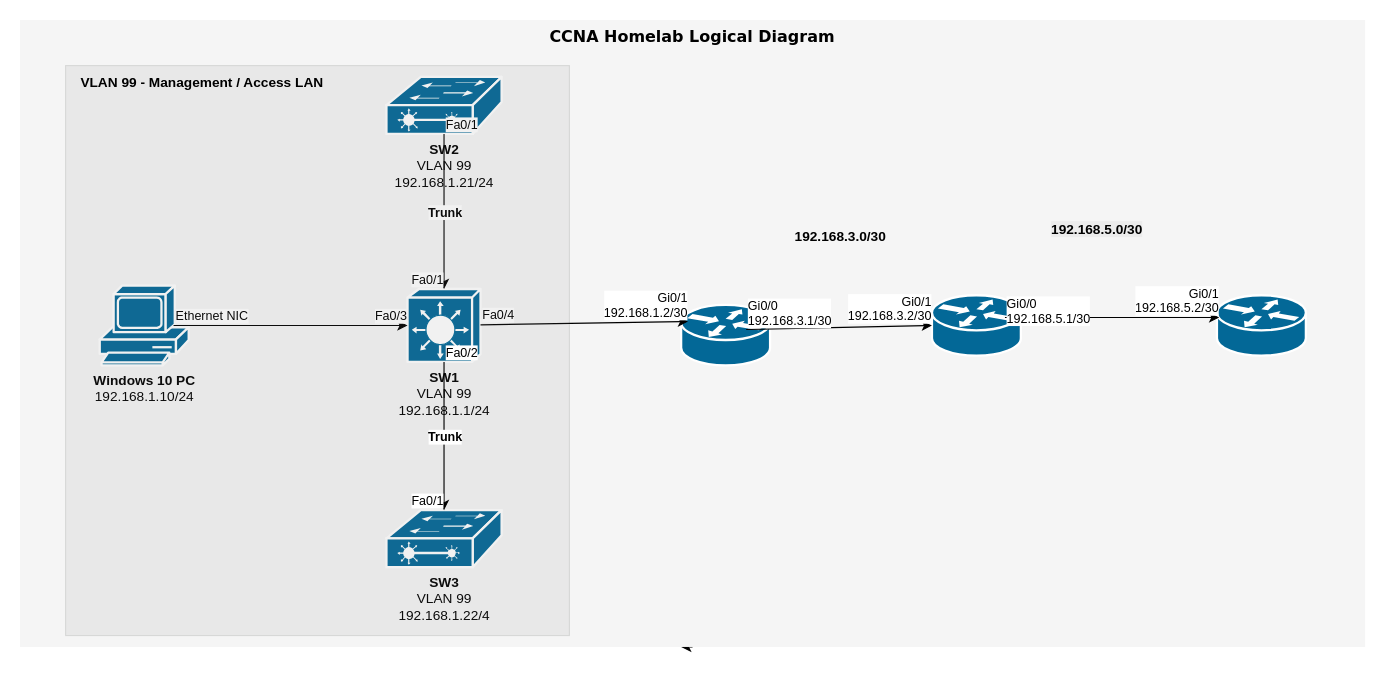
Image size: 1384x676. Some labels were removed from this diagram. Here are the shapes that lost their labels. From the top down, the centre of each, then its label:
At pixel 725 334: "R1 Lo0: 192.168.2.1/24".
At pixel 975 325: "R2 Lo0: 192.168.4.1/24".
At pixel 1260 325: "R3 Lo0: 192.168.6.1/24".
